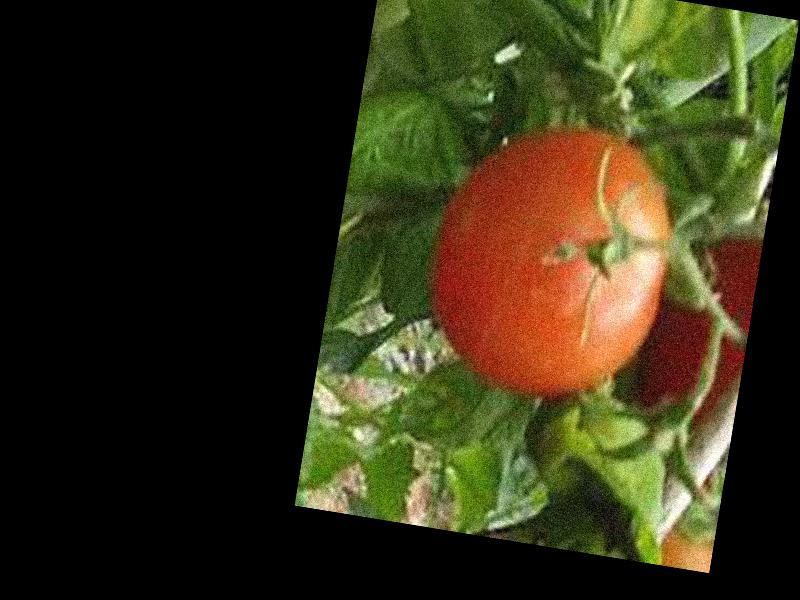Tomato: (422, 111, 687, 409)
